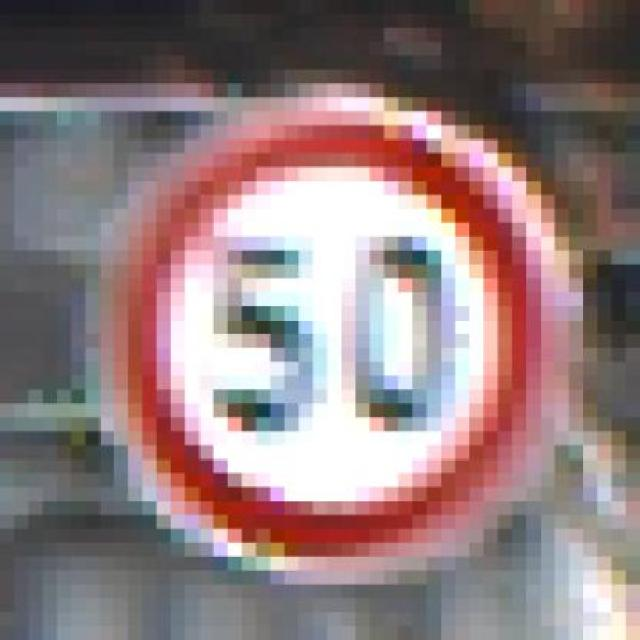Speed limit 50: (111, 96, 557, 569)
